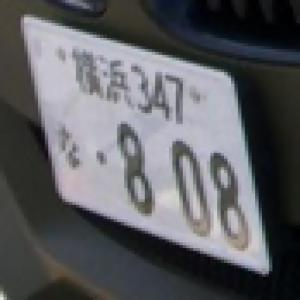Plate: (12, 6, 286, 290)
